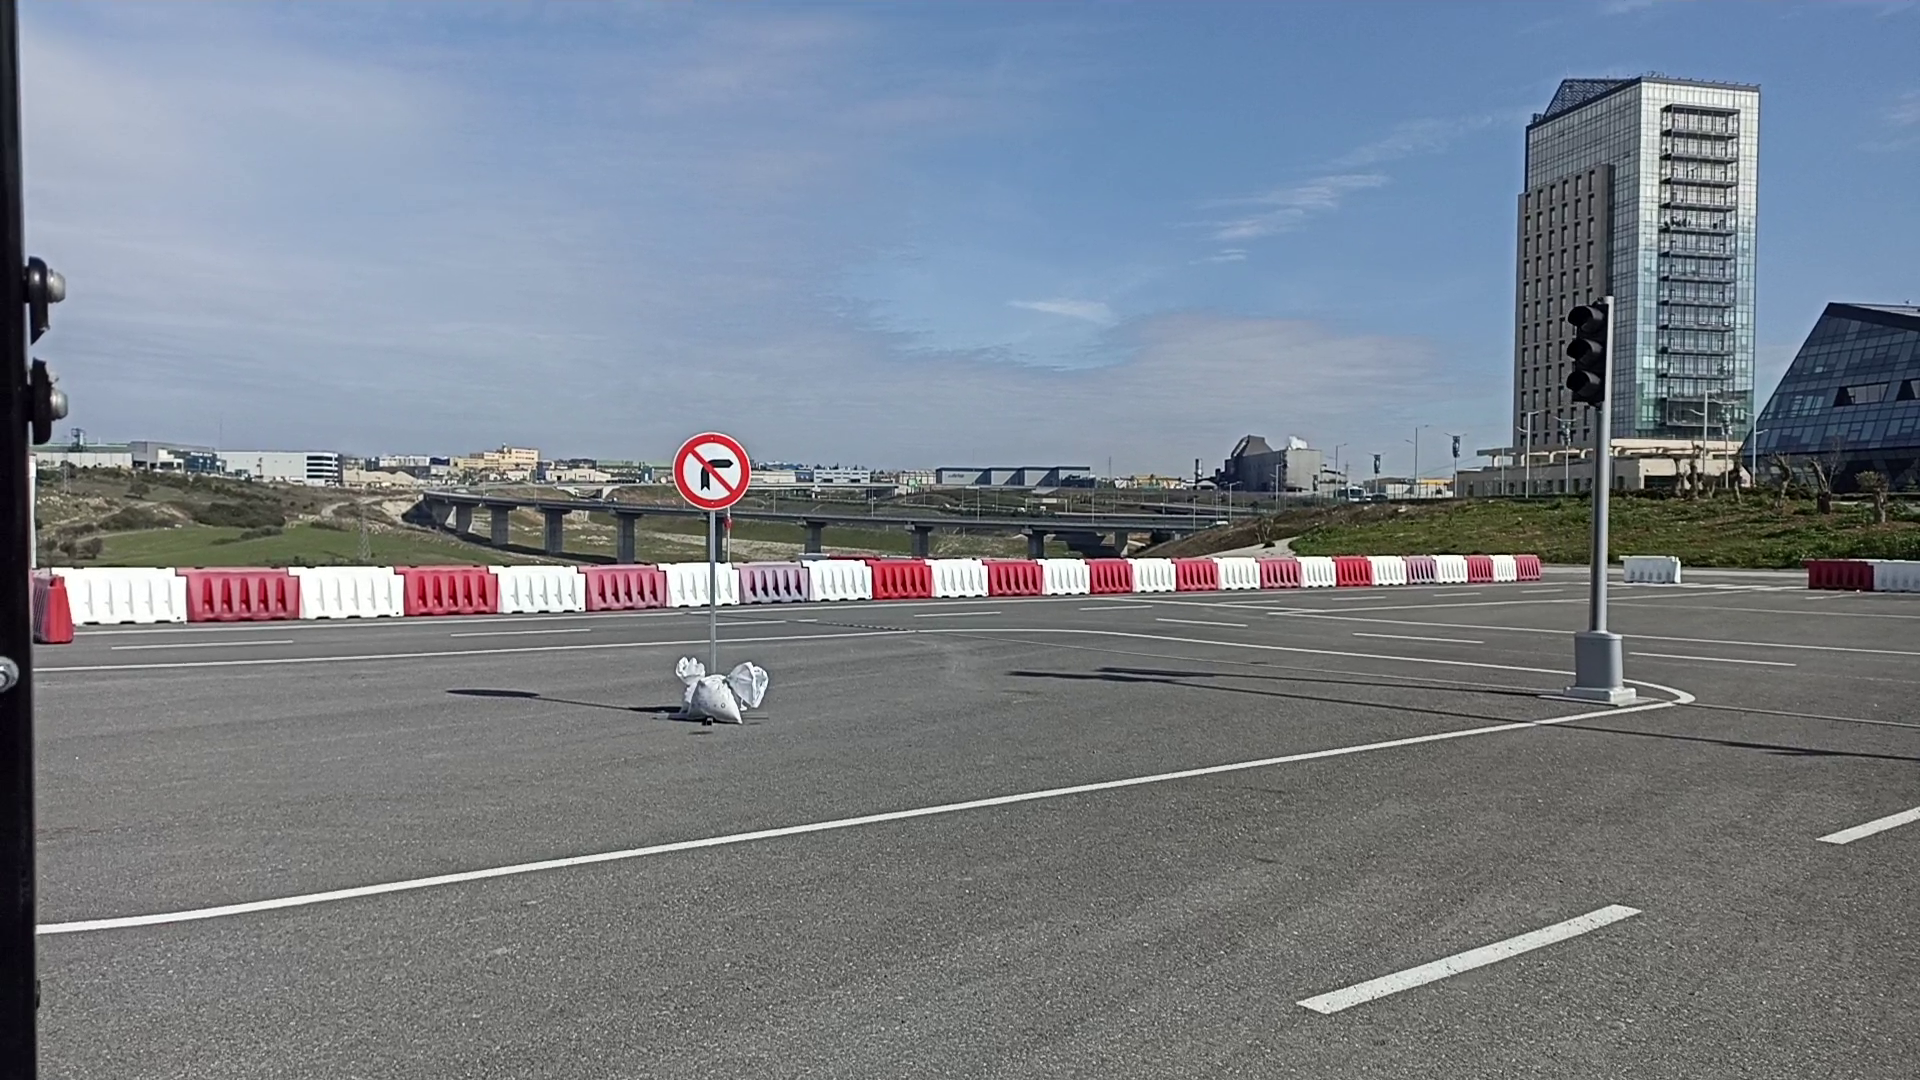noleftturn: (669, 430, 753, 514)
trafficlight: (1564, 299, 1613, 406)
